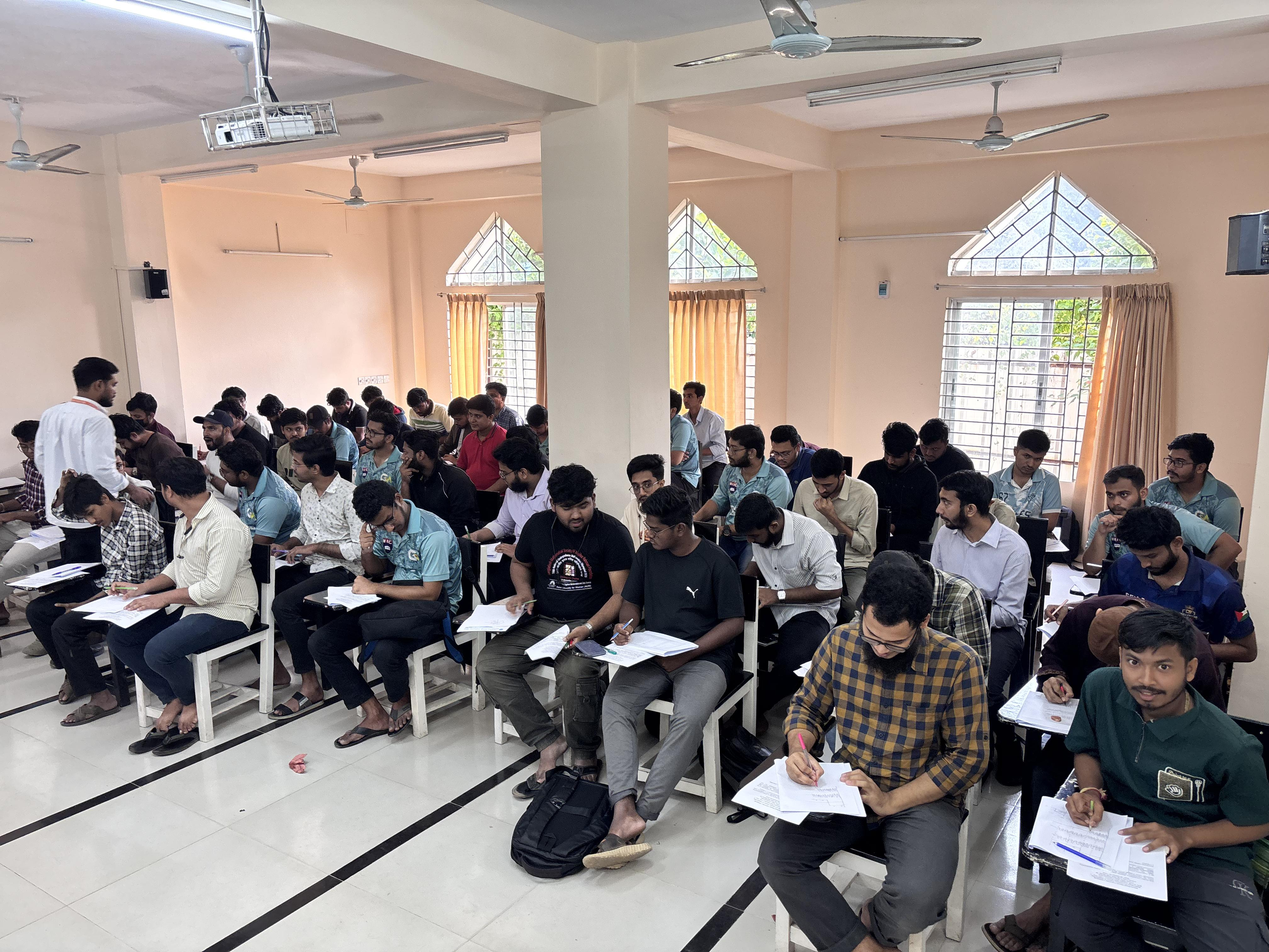copying: (504, 464, 643, 745), (600, 481, 739, 719), (8, 414, 47, 551)
hidden_communication: (393, 424, 471, 523), (617, 445, 674, 502)
invigilator: (34, 349, 125, 496)
no_cheating: (1032, 612, 1268, 944), (772, 571, 965, 932), (323, 479, 472, 687), (41, 459, 158, 630), (1092, 503, 1244, 631), (724, 484, 839, 616), (274, 426, 369, 571), (462, 433, 567, 561), (213, 432, 294, 542), (789, 440, 877, 534), (1156, 430, 1238, 529), (995, 424, 1076, 516), (352, 402, 409, 512), (865, 413, 929, 507), (1086, 459, 1167, 529), (449, 397, 508, 488), (917, 400, 967, 481), (188, 402, 237, 464), (768, 420, 812, 479), (120, 388, 173, 431), (404, 378, 438, 435), (321, 379, 360, 428), (523, 395, 554, 448)
side_talking: (127, 450, 255, 758), (704, 417, 792, 532), (925, 466, 1017, 571), (671, 370, 724, 446), (217, 382, 257, 420)
